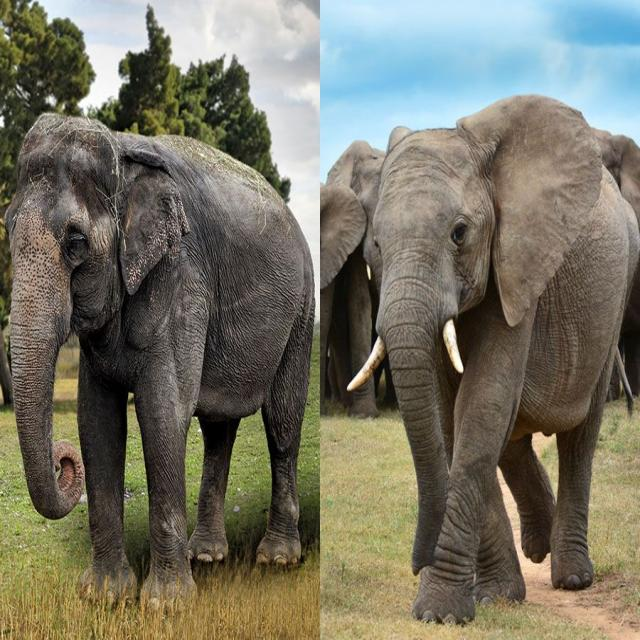Elephant: (320, 84, 640, 604), (5, 105, 308, 583)
